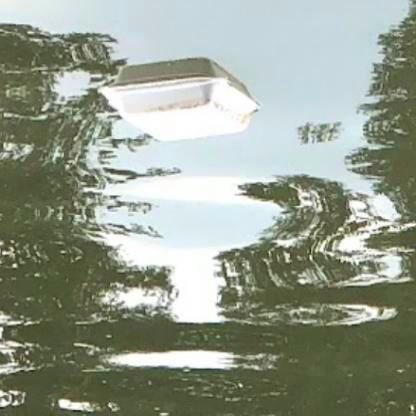Plastic: (97, 64, 265, 142)
